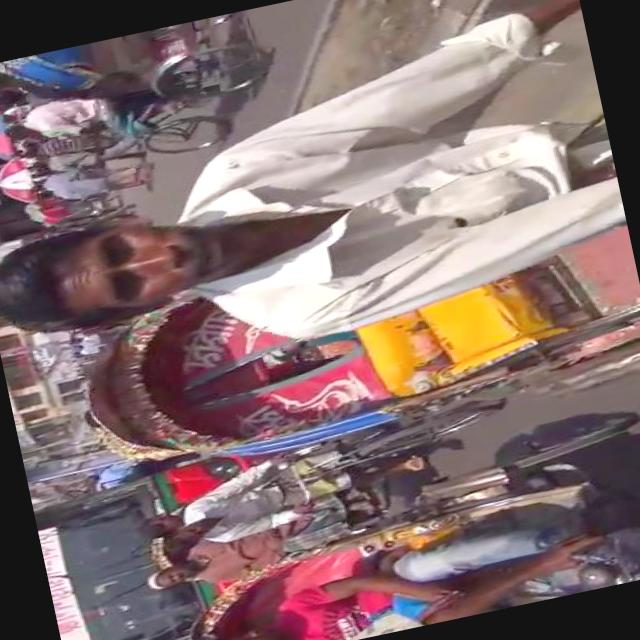bus: (29, 439, 313, 640)
motorcycle: (26, 179, 640, 498), (149, 406, 640, 640), (132, 391, 544, 594), (0, 5, 289, 192), (17, 178, 134, 236)
